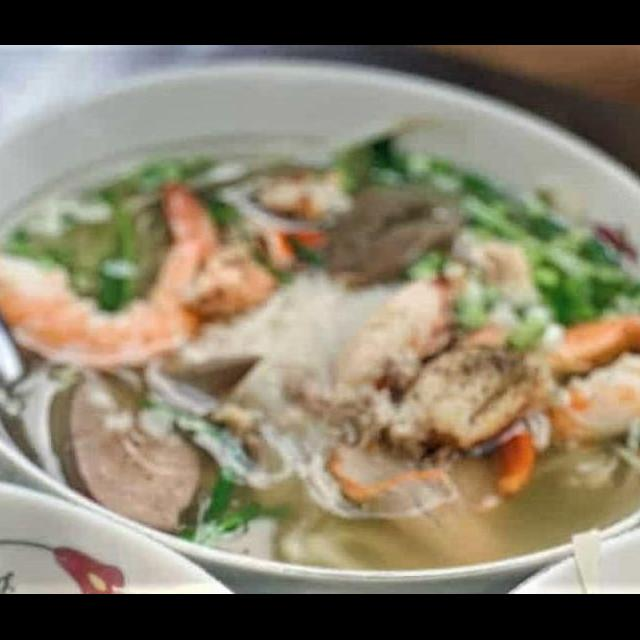gan: (39, 363, 212, 544)
thit heo: (318, 434, 522, 574)
tom: (0, 168, 227, 379), (444, 296, 640, 449)
